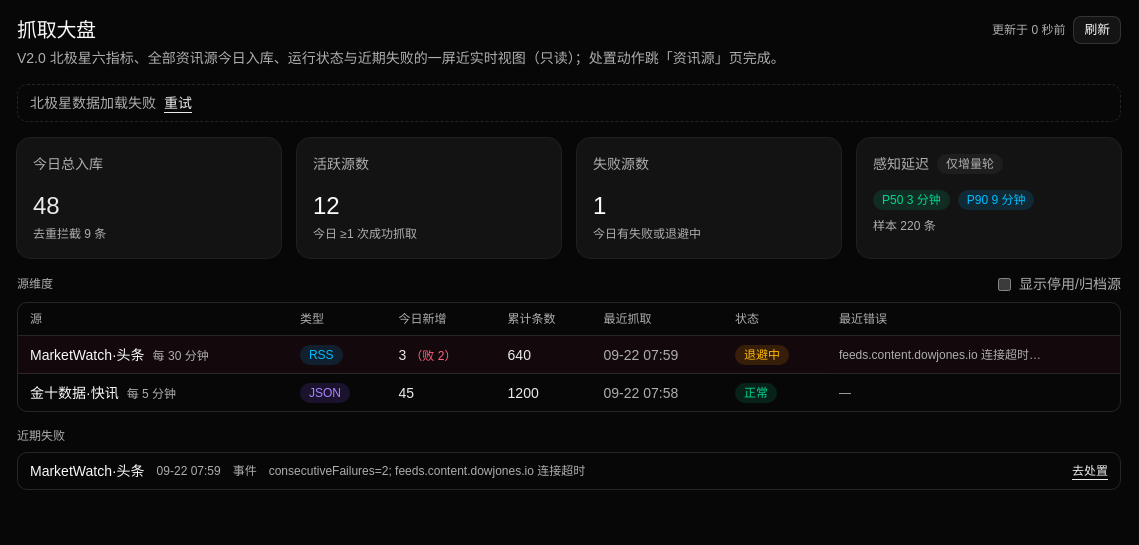
Scenario: FeedDashboard 抓取大盘页（T116） › 归档源默认折叠，勾选后可见
Expected: the row with test id "dashboard-source-row-jin10_flash" is shown, [18, 374, 1120, 411]
Click the checkbox with test id "dashboard-show-archived": click(1005, 284) [998, 278, 1011, 290]
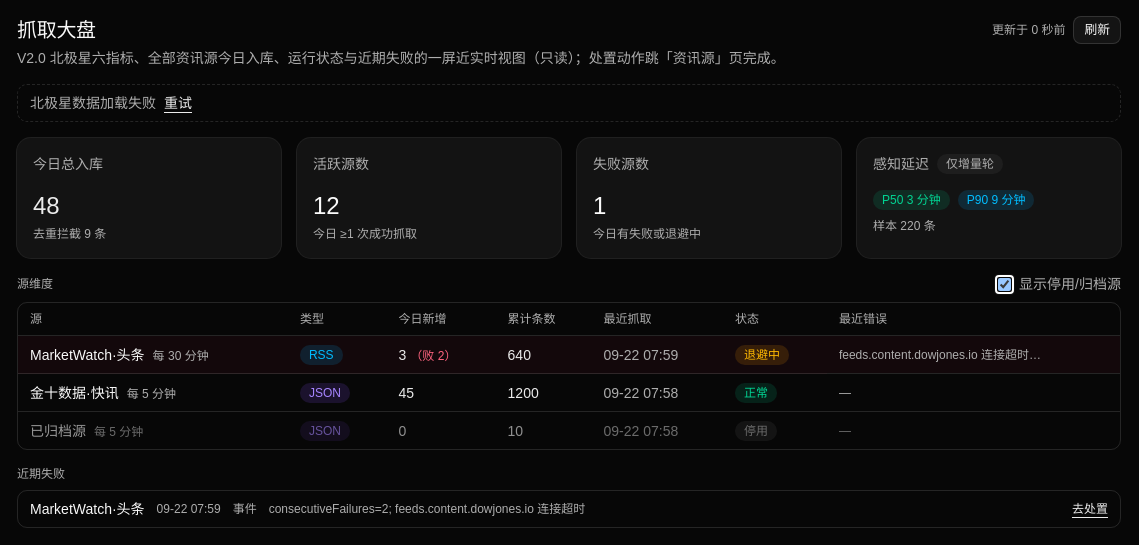
Expected: the row with test id "dashboard-source-row-t116_gone" is shown, [18, 412, 1120, 449]
